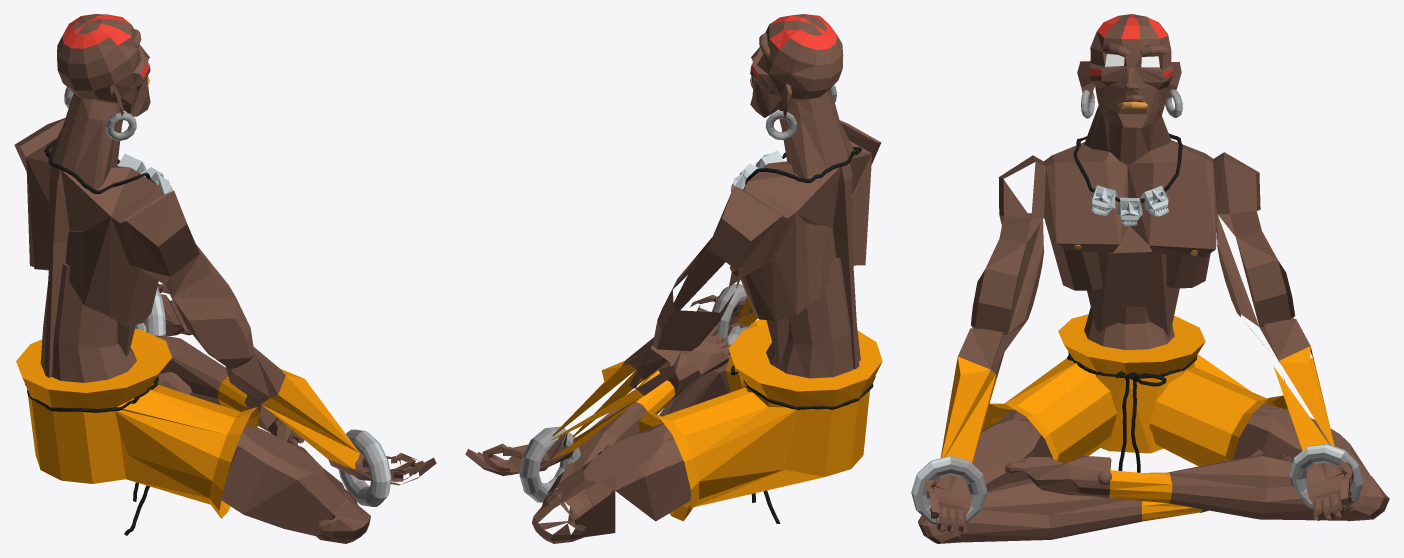
File: The Priest.glb
3 renders of one model, left to right at view 1: azimuth 30°, elevation 25°; view 2: azimuth 150°, elevation 25°; view 3: azimuth 270°, elevation 25°, orthographic. The views are drawn at different scales.
Visible parts, largest first — view 1: group977118188; view 2: group977118188; view 3: group977118188.
Boxes of the visible parts, x1,y1,x2,y2 form: group977118188: [14, 14, 436, 543]; group977118188: [465, 14, 882, 543]; group977118188: [911, 14, 1389, 543].
Bounding box in the file's own units: 0.876 × 1.42 × 1.25.
